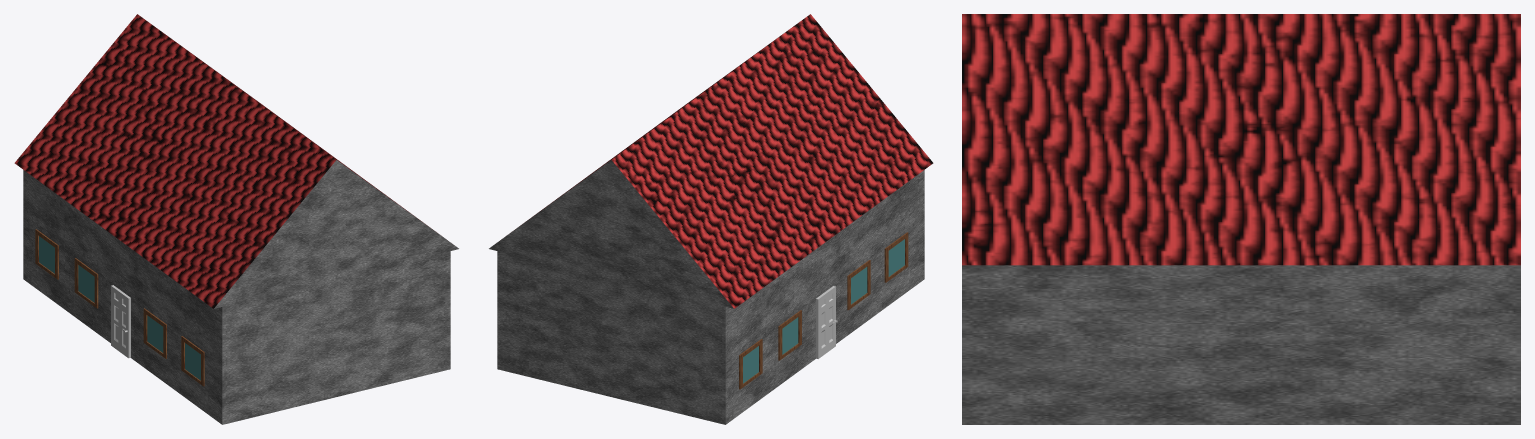
The model's file is House.fbx.
3 views of the same model, side by side, from view 1: azimuth 30°, elevation 25°; view 2: azimuth 150°, elevation 25°; view 3: azimuth 270°, elevation 25° (orthographic). The views are drawn at different scales.
Visible parts, largest first — view 1: House, Door, Window.002, Window.001, Glass.002, Glass.000, Window.003, Window, Glass.001, Glass.003; view 2: House, Door, Window, Window.002, Glass.000, Glass.001, Glass.002, Window.003, Window.001, Glass.003; view 3: House.
Part boxes in pixels (x1,y1,x2,y2): House: [14, 14, 458, 424]; Door: [111, 285, 130, 358]; Window.002: [74, 258, 98, 308]; Window.001: [143, 308, 166, 358]; Glass.002: [78, 265, 94, 302]; Glass.000: [147, 315, 163, 352]; Window.003: [35, 229, 58, 279]; Window: [181, 336, 204, 386]; Glass.001: [185, 343, 200, 380]; Glass.003: [39, 236, 54, 273]; House: [489, 14, 933, 424]; Door: [816, 286, 837, 358]; Window: [884, 232, 908, 282]; Window.002: [778, 310, 801, 360]; Glass.000: [851, 267, 867, 304]; Glass.001: [888, 239, 904, 276]; Glass.002: [782, 317, 798, 354]; Window.003: [739, 339, 762, 389]; Window.001: [847, 260, 870, 310]; Glass.003: [743, 346, 758, 383]; House: [962, 14, 1520, 424].
Size of the model in its own units: 201 by 186 by 283.
